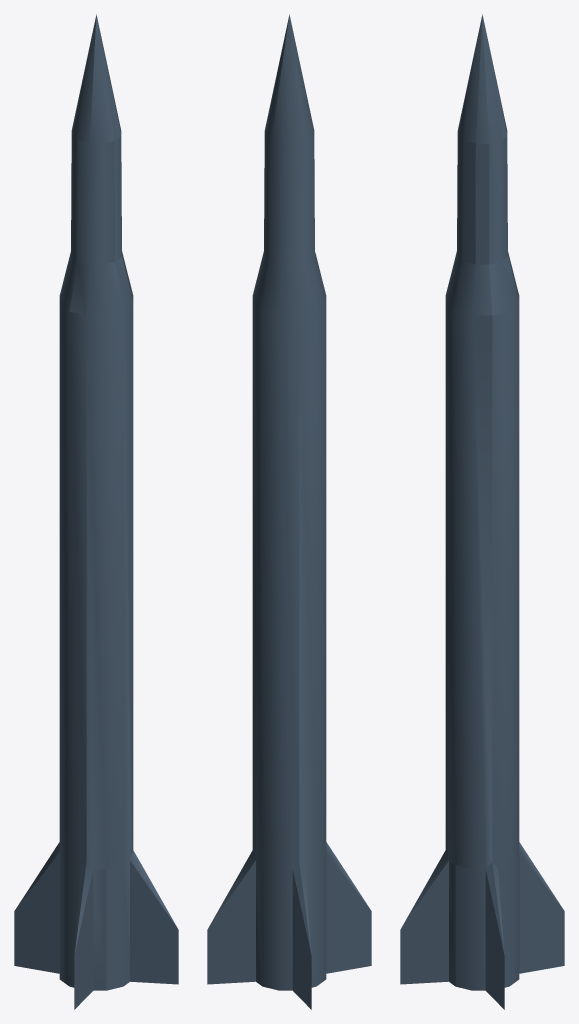
3 views of the same model, side by side, from view 1: azimuth 30°, elevation 25°; view 2: azimuth 150°, elevation 25°; view 3: azimuth 330°, elevation 25° (orthographic).
Visible parts, largest first — view 1: db_scudb_p13655_Geometry_0.003; view 2: db_scudb_p13655_Geometry_0.003; view 3: db_scudb_p13655_Geometry_0.003.
Part boxes in pixels (box(x1,y1,x2,y2)): db_scudb_p13655_Geometry_0.003: box(14, 14, 178, 1009); db_scudb_p13655_Geometry_0.003: box(207, 14, 371, 1009); db_scudb_p13655_Geometry_0.003: box(400, 14, 564, 1009).
Bounding box in the file's own units: 1.36 × 12 × 1.36.
